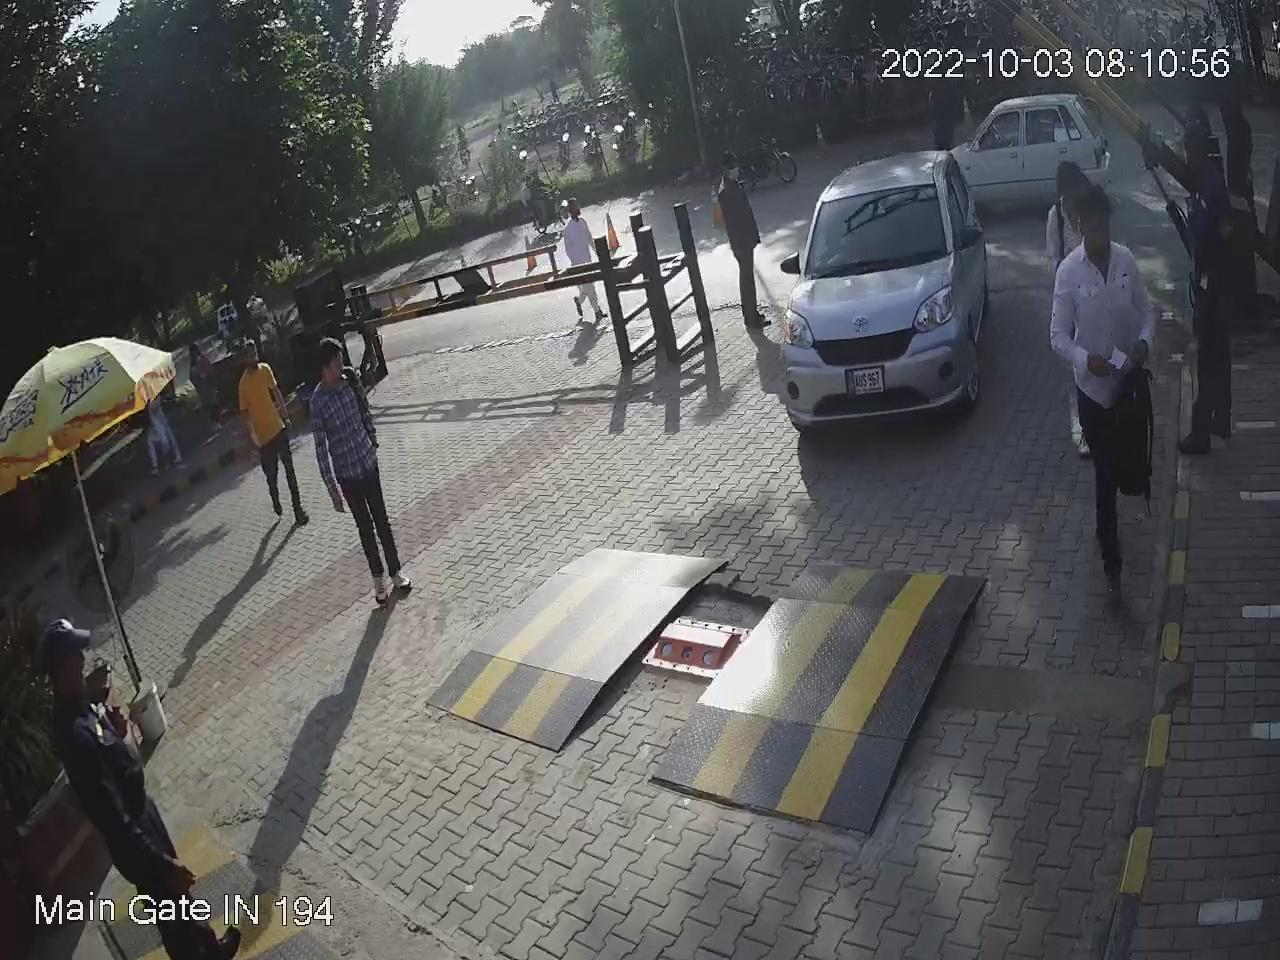windshield: (800, 177, 950, 285)
